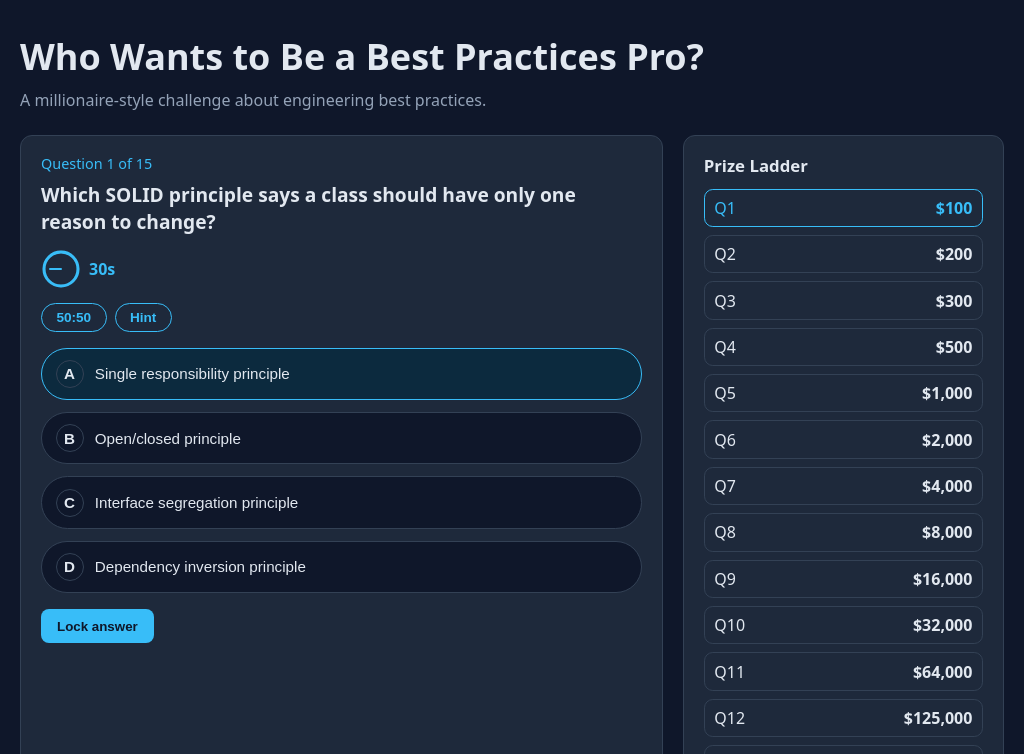
Test: BestPracticesQuizPage › advances when the correct answer is locked
Check: the heading "only one reason to change" is shown, box 41,181 -> 576,235
Click the button "A Single responsibility principle".
click(192, 374)  # box 41,348 -> 642,400
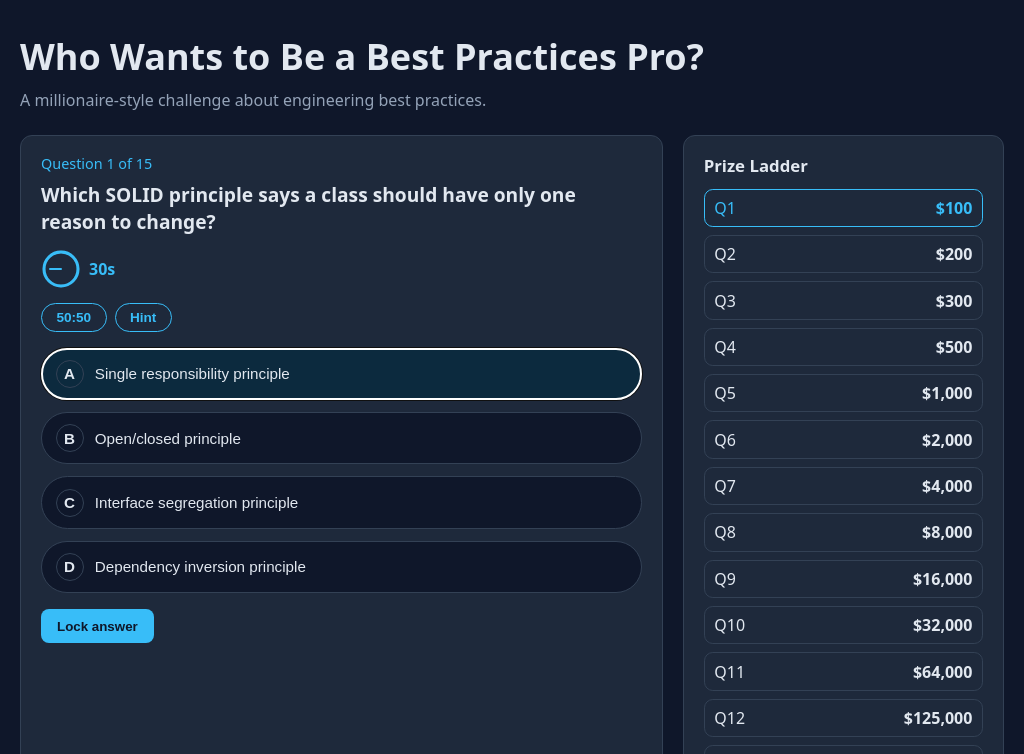
Click the button "Lock answer".
click(97, 626)  # box 41,609 -> 154,643
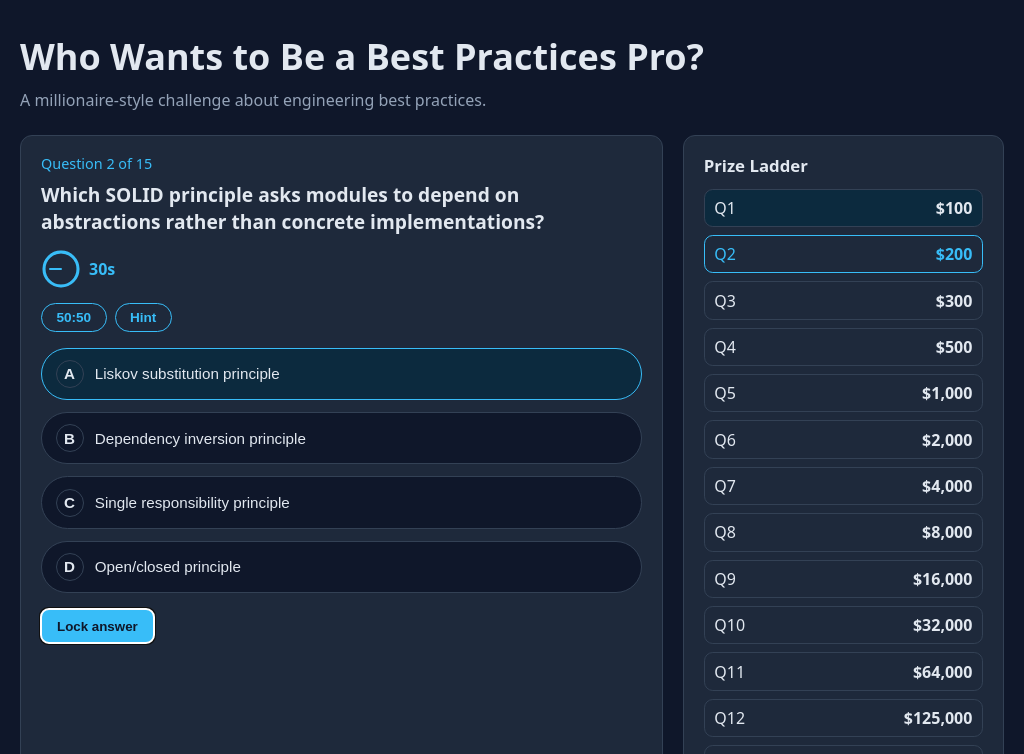
Check: the text "Question 2 of 15" is shown, box 41,154 -> 152,173
Check: the heading "depend on abstractions" is shown, box 41,181 -> 544,235
